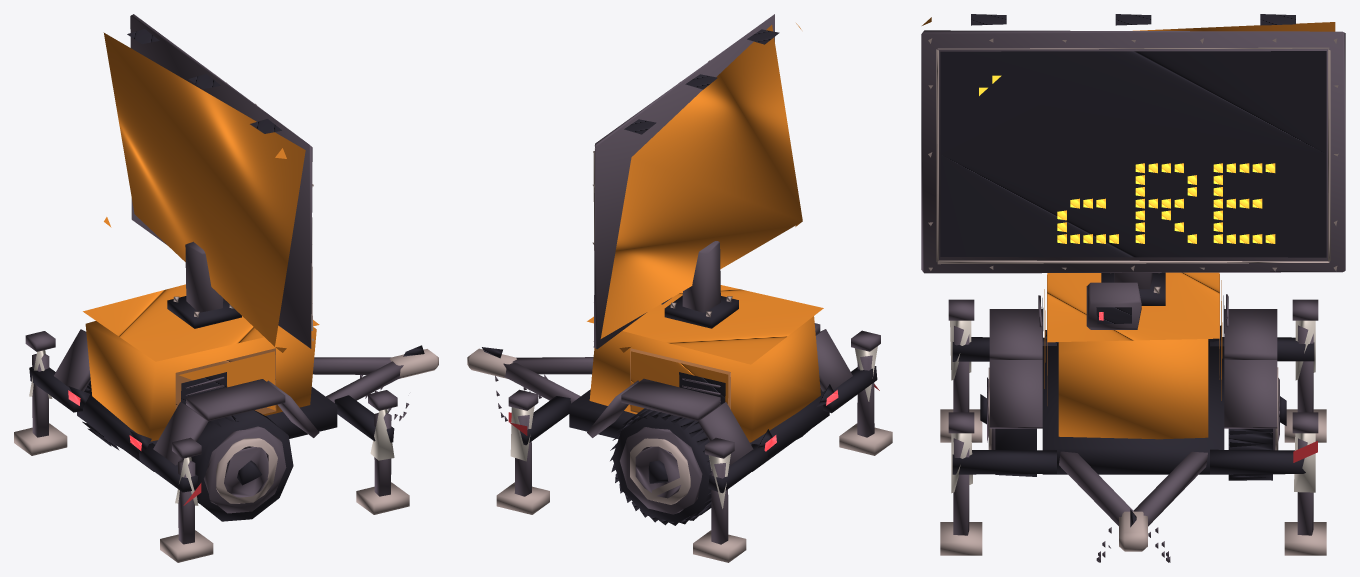
The picture shows the model from 3 angles, left to right: view 1: azimuth 30°, elevation 25°; view 2: azimuth 150°, elevation 25°; view 3: azimuth 270°, elevation 25°; orthographic projection. The views are drawn at different scales.
Size of the model in its own units: 2.87 by 3.19 by 2.64.
